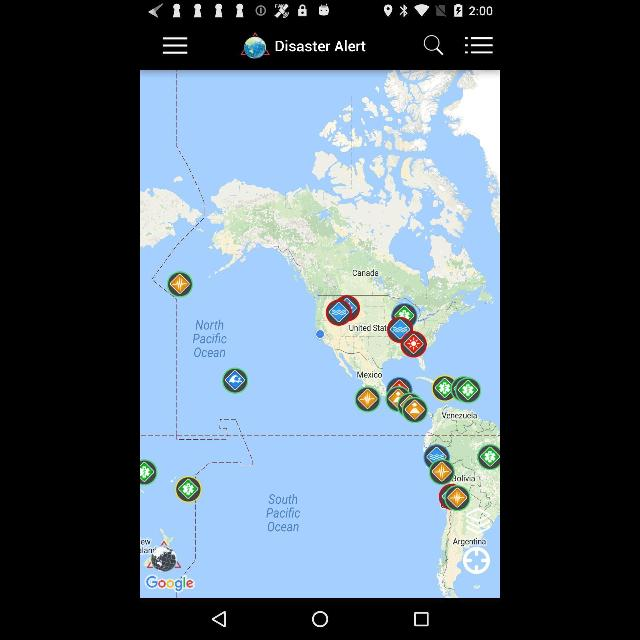icon: (464, 36, 494, 56), (162, 35, 188, 57), (424, 35, 444, 57), (312, 610, 328, 628), (212, 612, 226, 628), (414, 613, 428, 627)
image: (241, 32, 269, 58)
map: (140, 71, 500, 598)
panel: (141, 600, 499, 640), (140, 1, 500, 22)
text: (276, 39, 366, 55)
toolbar: (140, 21, 500, 69)
